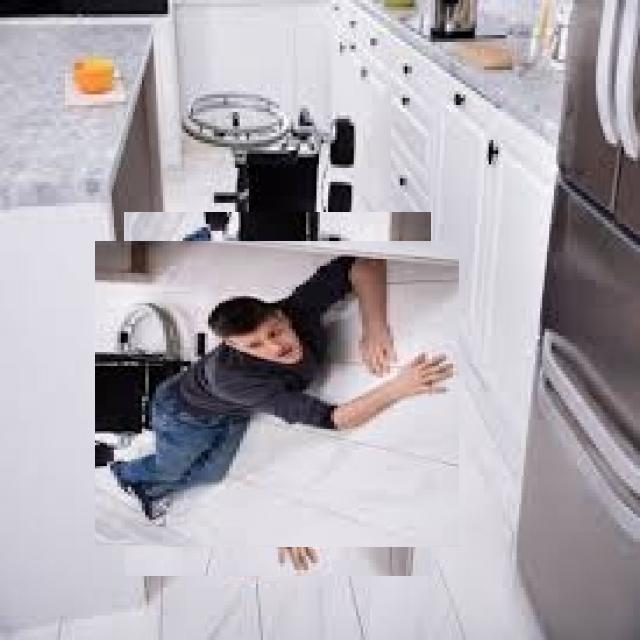Fall: (96, 251, 463, 568)
